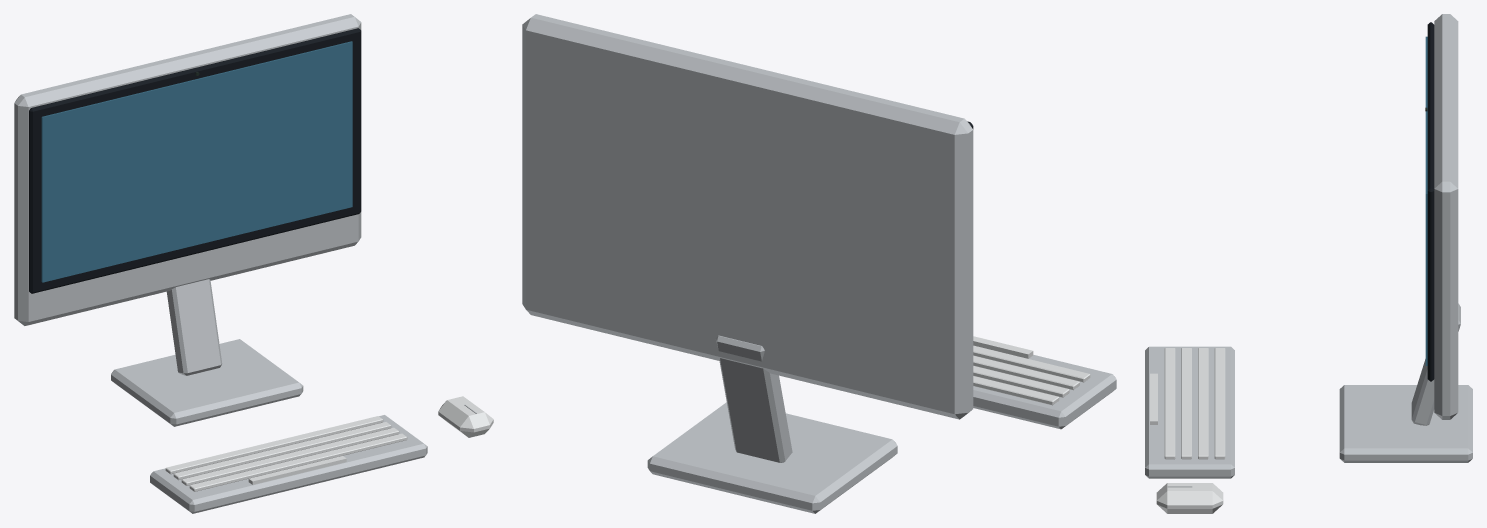
Rendered from mac.glb.
The picture shows the model from 3 angles, left to right: view 1: azimuth 30°, elevation 25°; view 2: azimuth 150°, elevation 25°; view 3: azimuth 270°, elevation 25°; orthographic projection. The views are drawn at different scales.
Parts seen in each view (by area): view 1: Computer screen, Computer aluminum enclosure, Computer black bezel, Computer stand foot, Keyboard case, Computer stand neck, Keyboard key row.003, Keyboard key row, Keyboard key row.001, Keyboard key row.002, Mouse, Keyboard space bar; view 2: Computer aluminum enclosure, Computer stand foot, Computer stand neck, Keyboard case, Keyboard key row.003, Keyboard key row.002, Keyboard key row.001, Keyboard key row; view 3: Computer aluminum enclosure, Computer stand foot, Keyboard case, Computer black bezel, Mouse, Keyboard key row, Keyboard key row.003, Keyboard key row.001, Keyboard key row.002, Computer stand neck, Computer screen, Keyboard space bar.
Boxes of the visible parts, box(x1,y1,x2,y2) form: Computer screen: box(41, 41, 352, 282); Computer aluminum enclosure: box(14, 14, 361, 325); Computer black bezel: box(29, 28, 361, 293); Computer stand foot: box(111, 339, 303, 426); Keyboard case: box(150, 415, 427, 513); Computer stand neck: box(166, 279, 222, 375); Keyboard key row.003: box(189, 433, 407, 491); Keyboard key row: box(165, 416, 383, 474); Keyboard key row.001: box(173, 422, 391, 480); Keyboard key row.002: box(181, 427, 399, 485); Mouse: box(438, 396, 493, 437); Keyboard space bar: box(248, 456, 346, 484); Computer aluminum enclosure: box(522, 14, 973, 419); Computer stand foot: box(647, 402, 897, 513); Computer stand neck: box(715, 335, 792, 462); Keyboard case: box(973, 355, 1116, 429); Keyboard key row.003: box(973, 345, 1090, 382); Keyboard key row.002: box(973, 355, 1079, 390); Keyboard key row.001: box(973, 366, 1069, 397); Keyboard key row: box(973, 376, 1059, 405); Computer aluminum enclosure: box(1434, 14, 1458, 419); Computer stand foot: box(1339, 385, 1472, 462); Keyboard case: box(1145, 346, 1234, 478); Computer black bezel: box(1427, 22, 1434, 381); Mouse: box(1156, 483, 1223, 513); Keyboard key row: box(1214, 348, 1225, 459); Keyboard key row.003: box(1164, 348, 1175, 459); Keyboard key row.001: box(1198, 348, 1208, 459); Keyboard key row.002: box(1181, 348, 1191, 459); Computer stand neck: box(1411, 303, 1460, 425); Computer screen: box(1425, 36, 1427, 365); Keyboard space bar: box(1150, 373, 1157, 424).
Bounding box in the file's own units: 0.6205 × 0.5525 × 0.4925.
